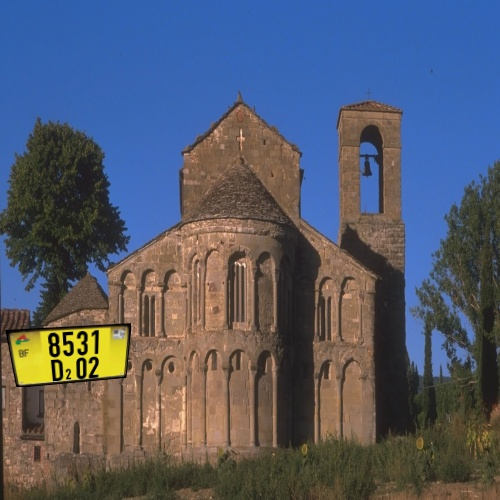plate: (1, 314, 158, 394)
